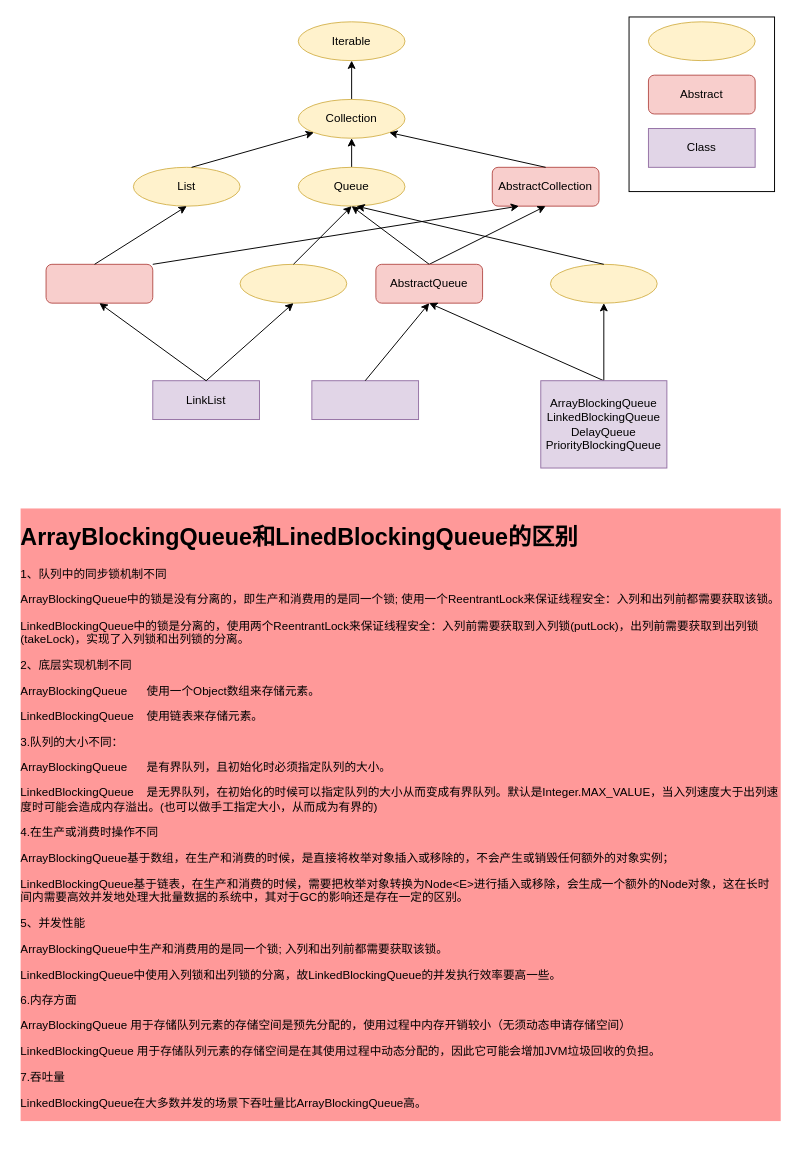
This 799x1165 diagram has some shape labels left out. Each missing label, with the centre of its shape:
"AbstractList" goes at [99,283].
"BlockingQueue" goes at [603,283].
"Deque" goes at [293,283].
"Interface" goes at [701,41].
"PriorityQueue" goes at [365,400].
